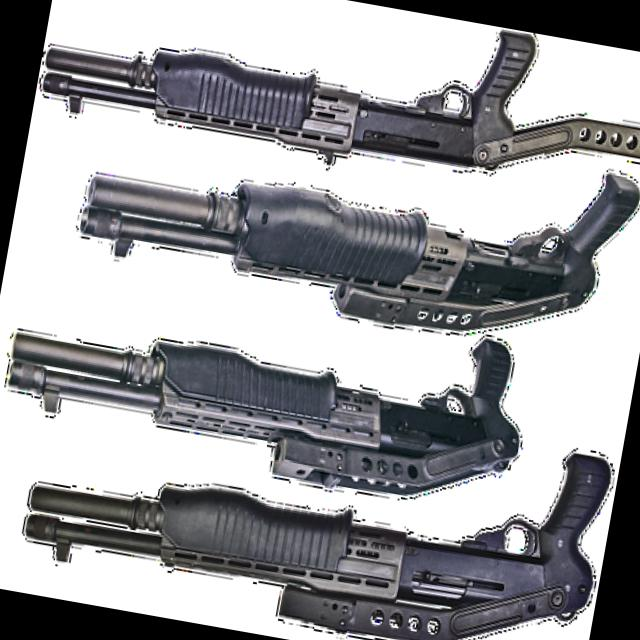Weapon: (11, 356, 616, 640), (66, 82, 640, 368), (0, 254, 533, 516), (35, 0, 640, 210)
